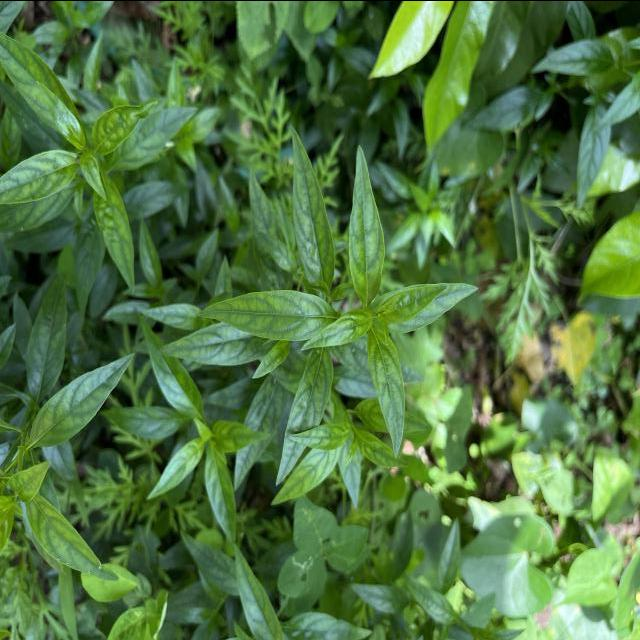Andrographis paniculata: (25, 352, 135, 451), (0, 30, 89, 146), (274, 348, 334, 487), (26, 494, 120, 581), (288, 124, 336, 284), (198, 286, 336, 341), (136, 312, 206, 419), (346, 142, 386, 304), (374, 280, 480, 334), (366, 322, 406, 461), (92, 177, 136, 294), (0, 146, 80, 206), (89, 98, 160, 158), (146, 434, 207, 500), (204, 446, 238, 546), (300, 306, 374, 351), (213, 417, 272, 451), (288, 420, 352, 450)
